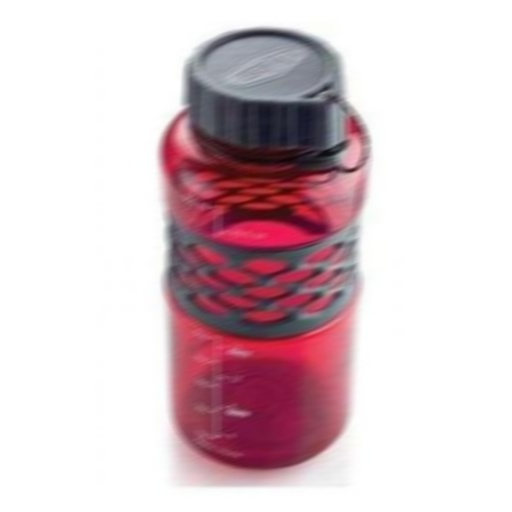bottle: (161, 28, 372, 473)
